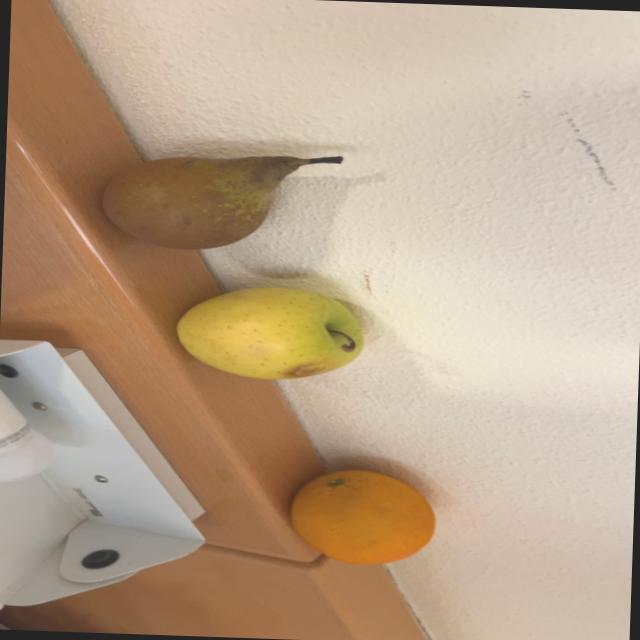apple: (176, 287, 361, 379)
orange: (292, 470, 434, 564)
pear: (102, 156, 341, 249)
